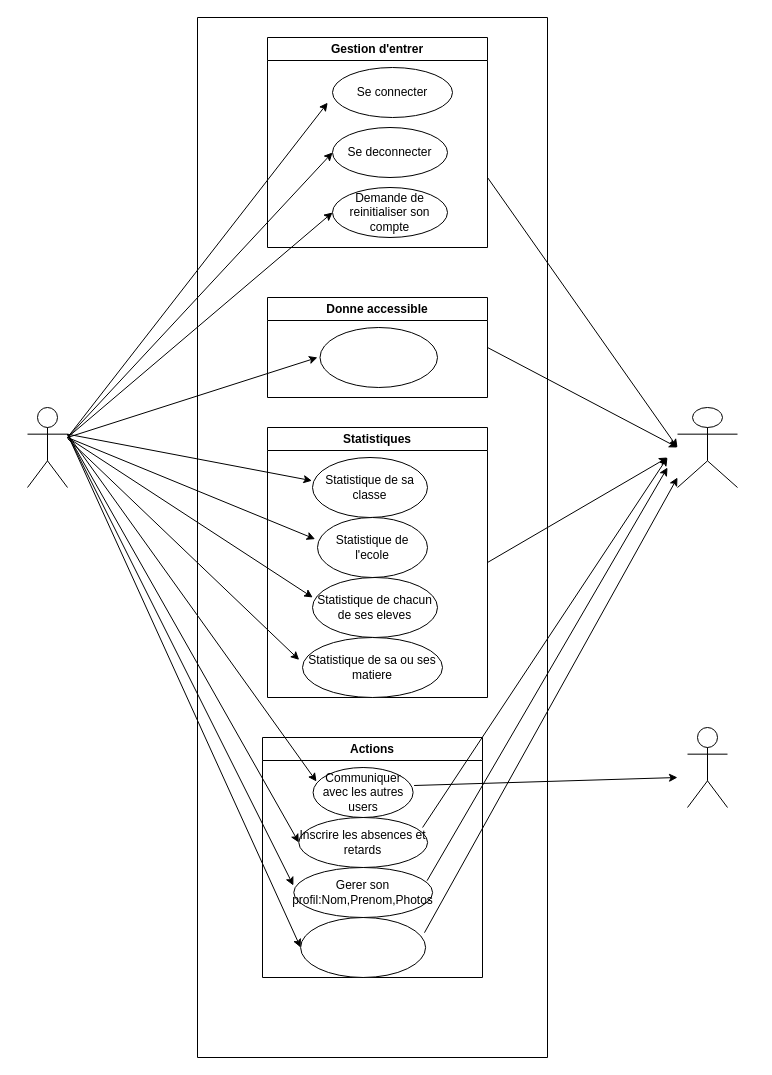
Some shapes in this 772 by 1075 pixel diagram are drawn without their labels. The centre of each missing label's shape, as x and y in pixels:
"Autres utilisateurs" belongs at (707,767).
"Changer de theme,langues" belongs at (363,947).
"Django" belongs at (707,447).
"Enseignant" belongs at (47,447).
"Peut voir la liste des eleves selon la classe" belongs at (378,357).
